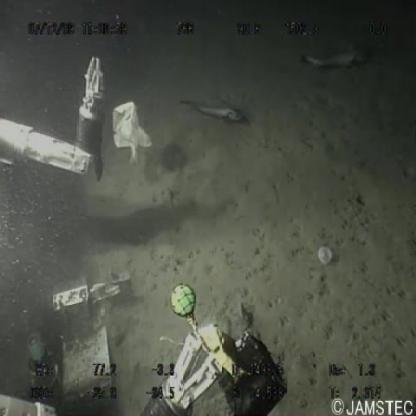Bio: (178, 92, 251, 130), (296, 45, 374, 74)
Rov: (1, 53, 300, 416)
Rác: (109, 97, 155, 169), (316, 241, 337, 267)
